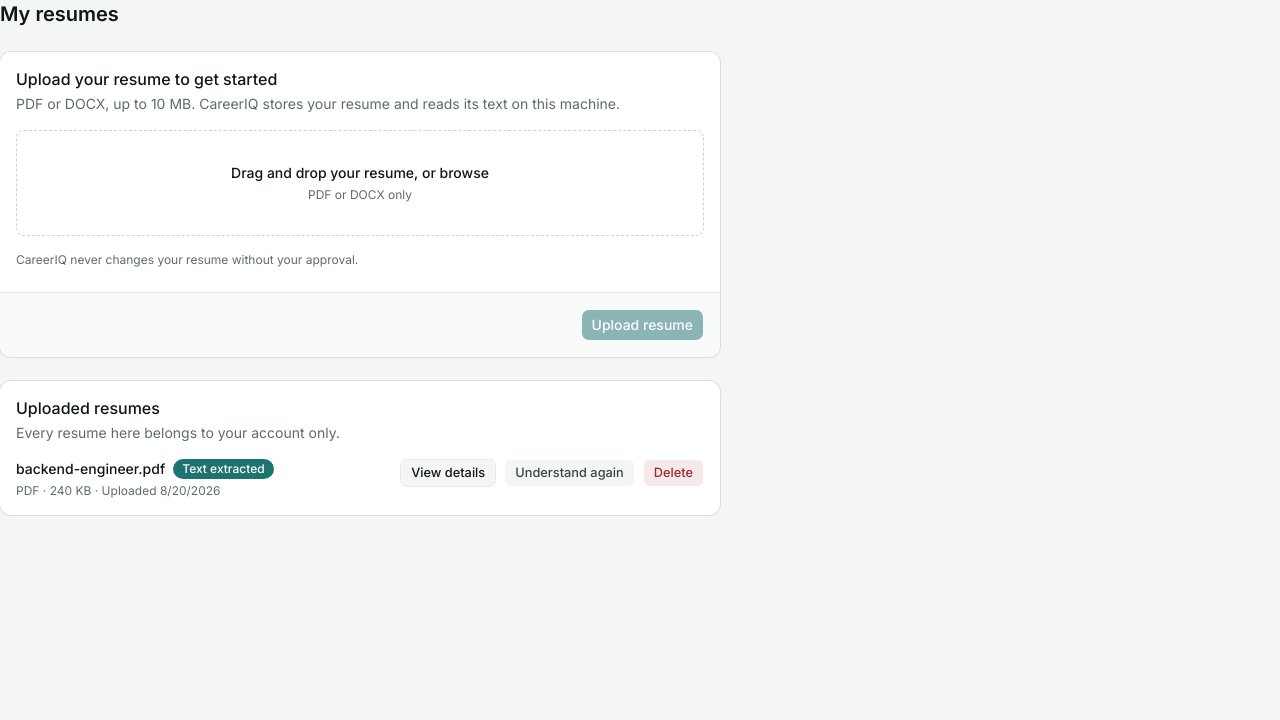
Scenario: ai resume understanding › still allows deleting a resume that has been understood
Click the button "Delete" at {"x": 673, "y": 473}, box [643,459,704,487]
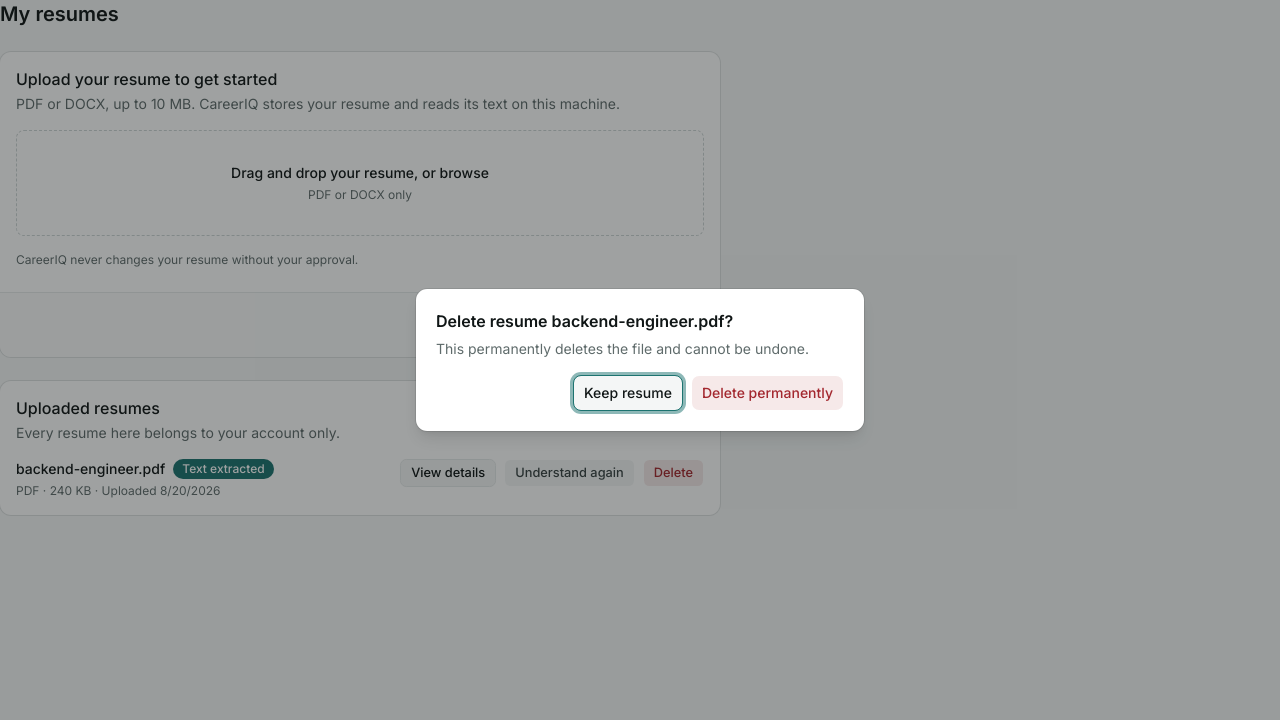
Click the button "Delete permanently" at {"x": 768, "y": 393}, box [691,375,844,411]
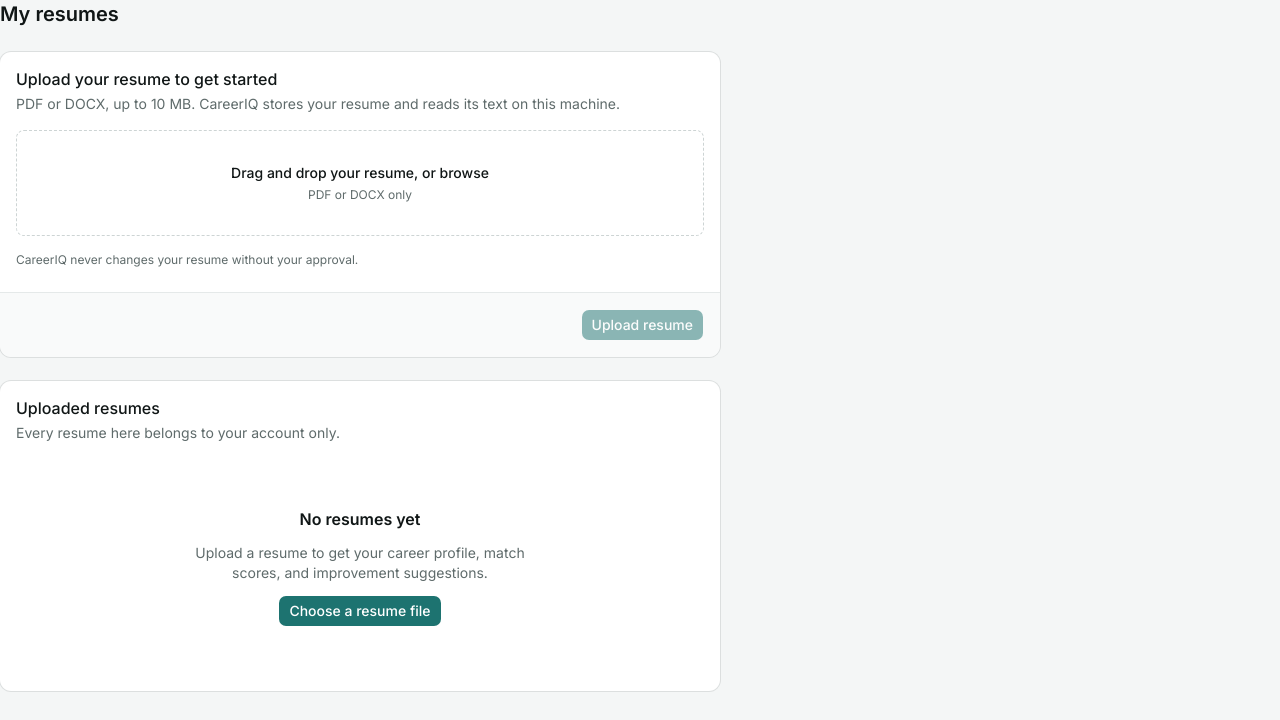
Expected: the dialog is gone
